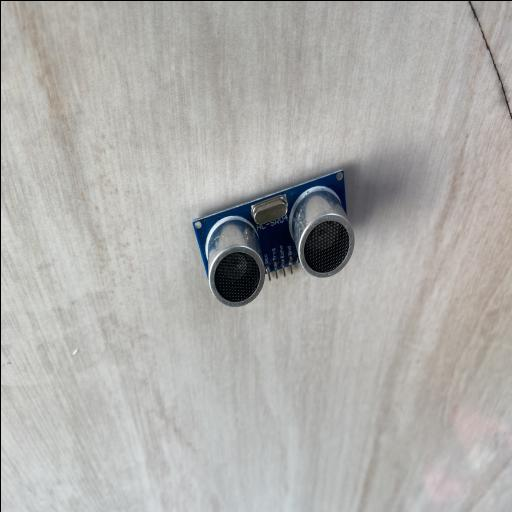Ultrasonic Sensor: (190, 168, 354, 308)
